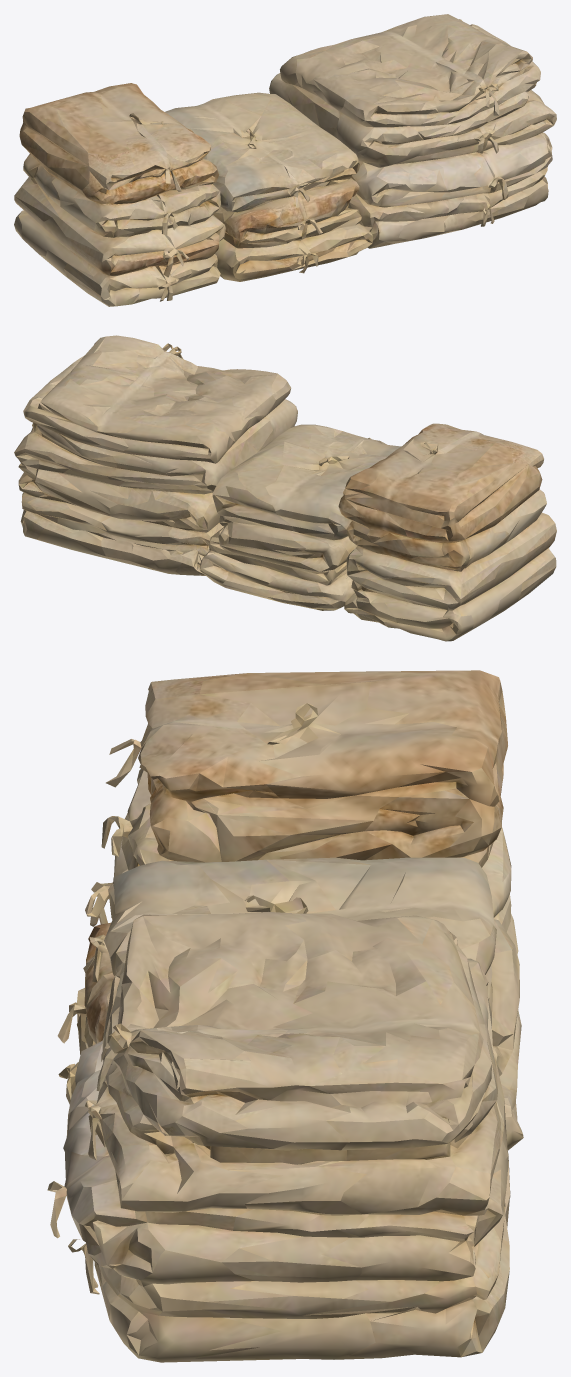
File: w3hmattresses.glb
3 renders of one model, top to bottom at view 1: azimuth 30°, elevation 25°; view 2: azimuth 150°, elevation 25°; view 3: azimuth 270°, elevation 25°, orthographic. The views are drawn at different scales.
Visible parts, largest first — view 1: output_unwrapped; view 2: output_unwrapped; view 3: output_unwrapped.
Boxes of the visible parts, x1,y1,x2,y2 form: output_unwrapped: [14, 14, 556, 306]; output_unwrapped: [14, 335, 556, 641]; output_unwrapped: [47, 670, 523, 1362].
Bounding box in the file's own units: 2 × 0.6148 × 0.9007.
1 material, 1 textured.
